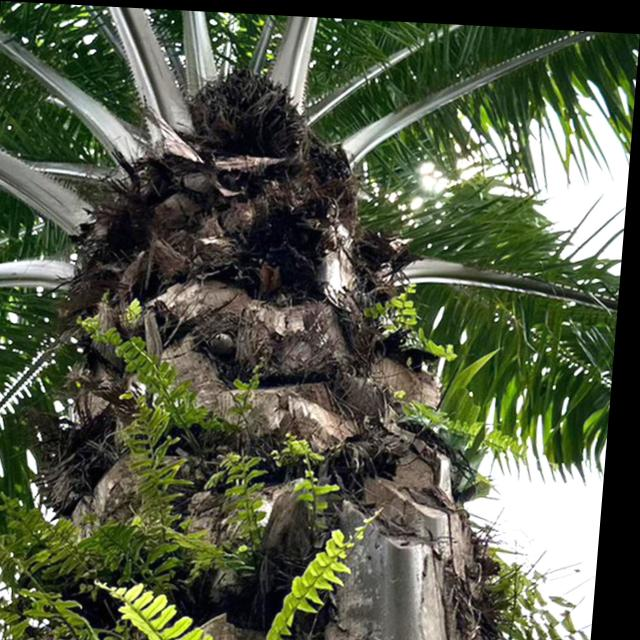almost: (182, 55, 314, 166)
